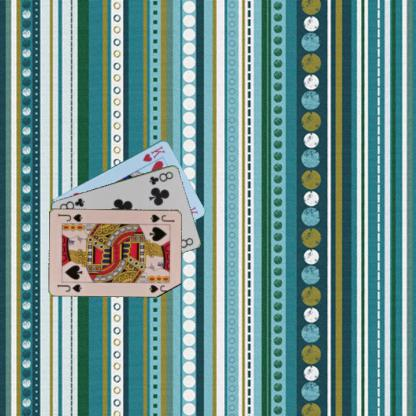8c: (147, 169, 174, 186)
Js: (55, 281, 83, 293), (148, 212, 176, 223)
Kh: (140, 143, 166, 163)
